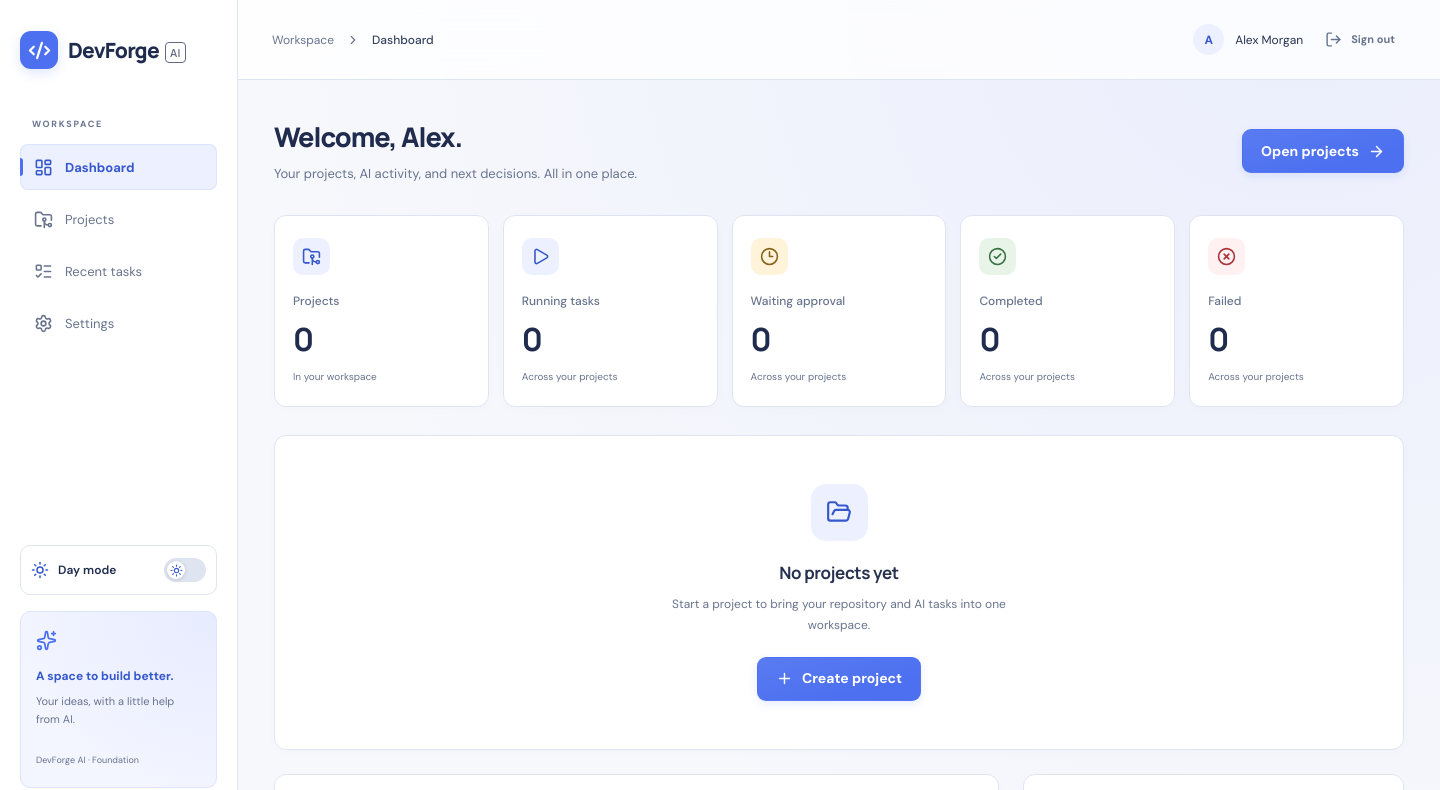
Test case: auth forms and routes › clears the local user and redirects after logout
What coordinates should you click on to do the following:
click the button "Sign out"
I would click on:
 (1360, 40)
Its box is [1314, 18, 1406, 62].
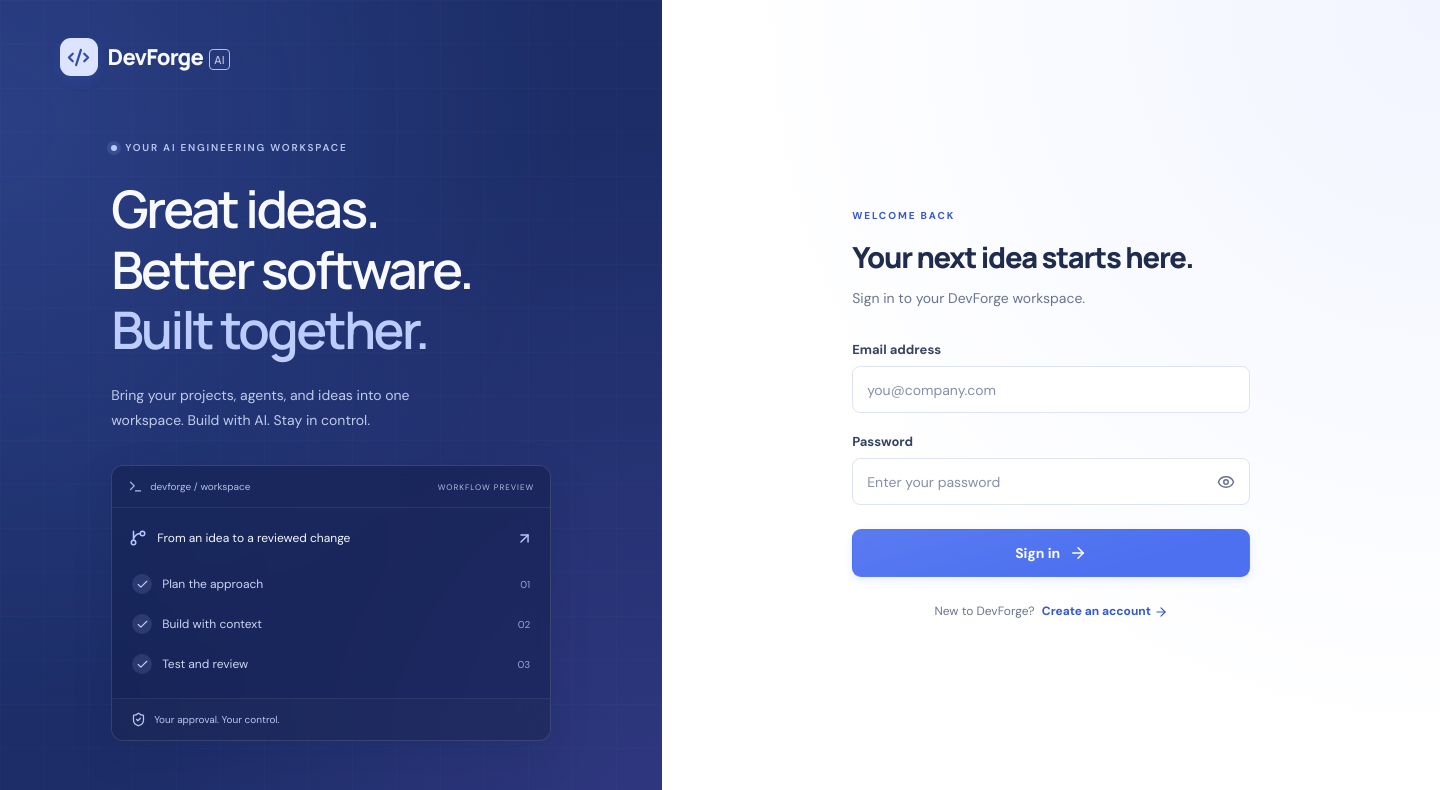
Expected: the button "Sign in" is shown, [852, 529, 1250, 577]
